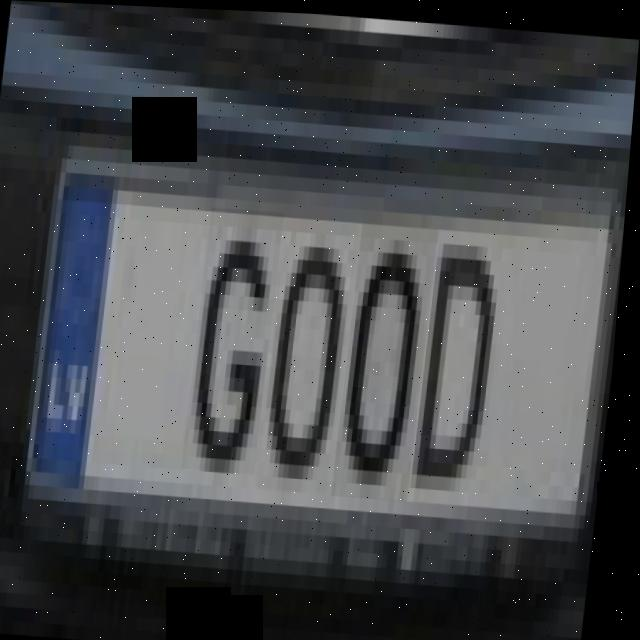0: (338, 218, 442, 497), (261, 215, 362, 489)
D: (416, 221, 512, 501)
G: (188, 205, 287, 471)
